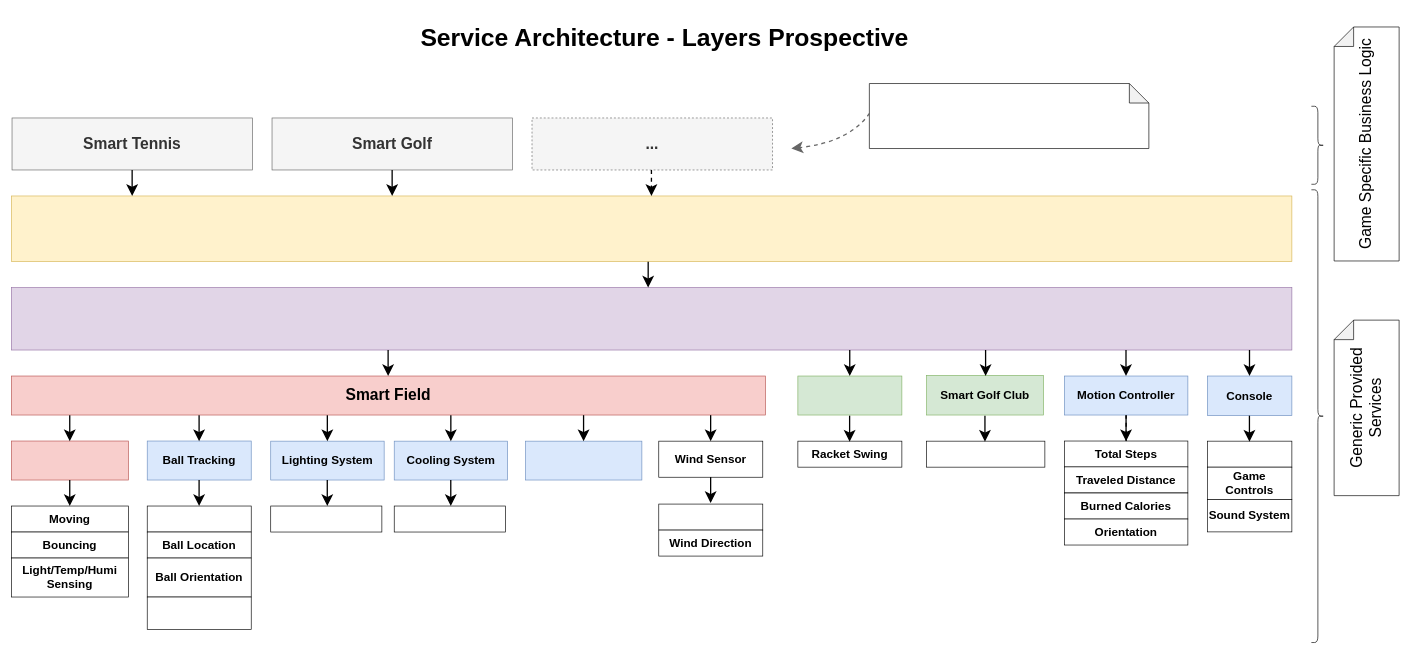
The diagram is 1411 pixels wide and 654 high, and some of its shapes have lost their labels. Here are the shapes that lost their labels. From the top down, the centre of each, then its label:
At point (1009, 116): "Easy to accomodate new games.".
At point (651, 228): "Game Manager".
At point (651, 318): "Smart Playground".
At point (849, 395): "Smart Racket".
At point (69, 460): "Smart Ball".
At point (583, 460): "Artificial Racket".
At point (985, 454): "Club Stroke".
At point (1249, 454): "Sensors View".
At point (199, 518): "Field Boundaries".
At point (326, 518): "Control Lights".
At point (449, 518): "Control Fans".
At point (710, 516): "Wind Intensity".
At point (199, 613): "Golf Hole Location".
